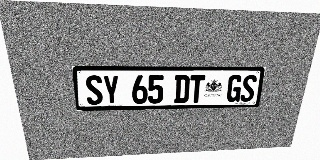5: (148, 75, 164, 104)
6: (132, 75, 147, 104)
D: (174, 75, 190, 103)
G: (226, 75, 243, 102)
S: (84, 75, 103, 105), (240, 75, 257, 102)
T: (189, 75, 205, 103)
Y: (102, 75, 120, 105)
